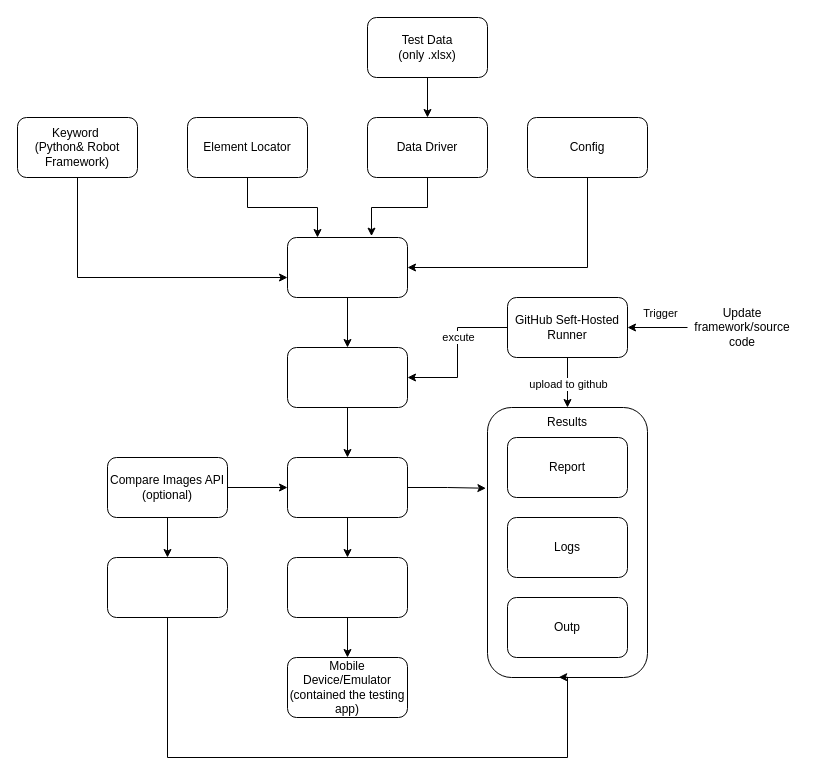
Some shapes in this 815 by 783 pixel diagram are drawn without their labels. The shapes that lost their labels are listed below. From the top down, each one's centre as x and y in pixels, then its label:
At (x=347, y=267): "Automation Script".
At (x=347, y=377): "Test Case & Test Suite".
At (x=347, y=487): "Robot Framework".
At (x=167, y=587): "Different Images".
At (x=347, y=587): "Appium".
